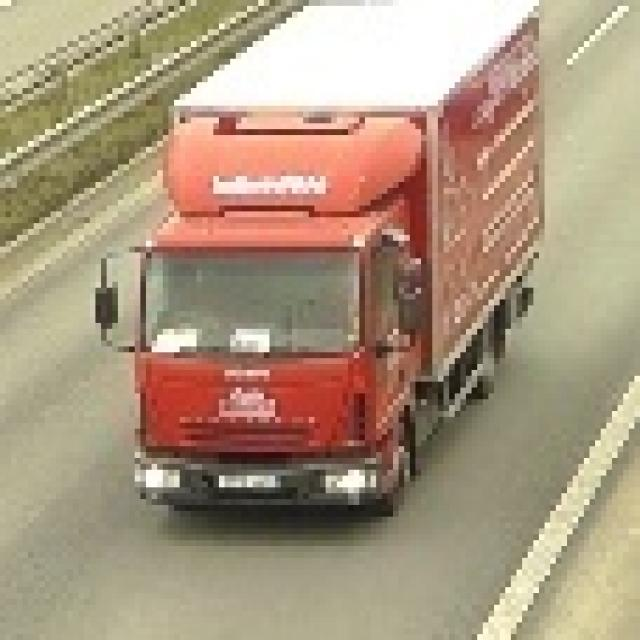truck: (90, 0, 533, 511)
